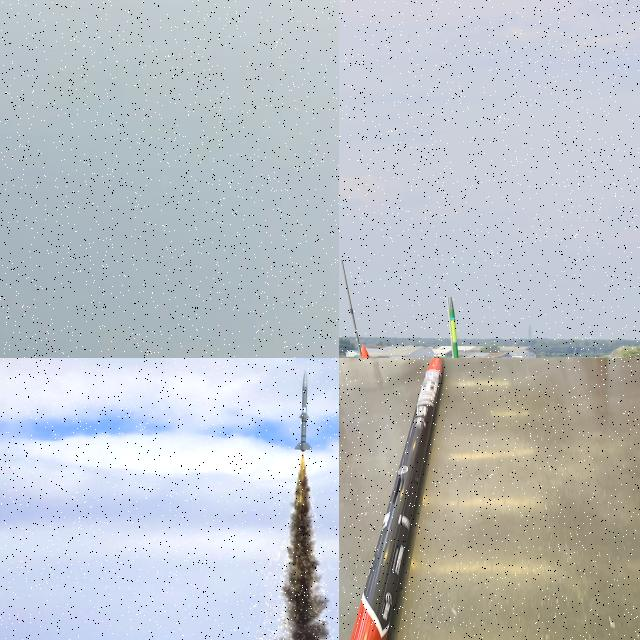Rocket: (350, 358, 443, 640), (293, 369, 313, 453), (449, 296, 459, 358), (360, 344, 370, 358)
